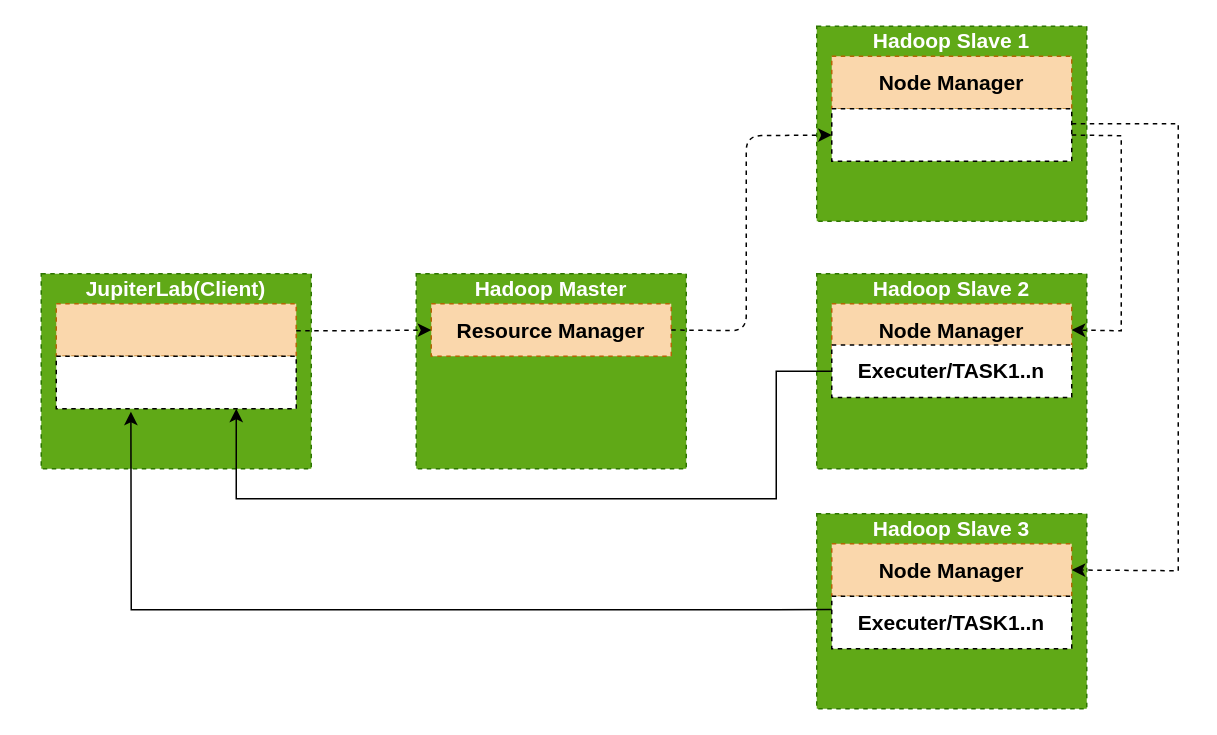
Image size: 1217x735. Some labels were removed from this diagram. The shapes that lost their labels are listed below. From the top down, each one's centre as x and y in pixels, then its label:
At point 951,134: "Application Master".
At point 175,329: "JupiterLab".
At point 175,382: "Driver Program (SparkContext)".
